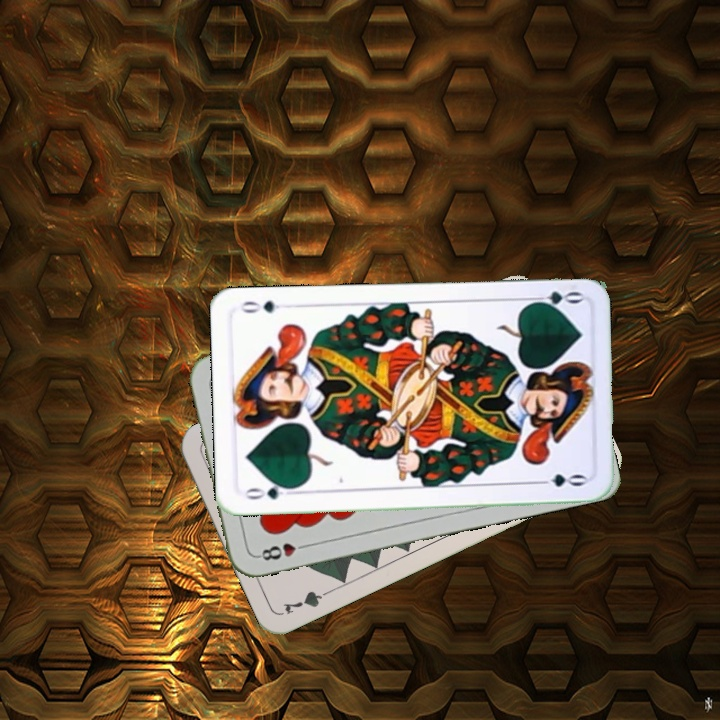G7: (278, 584, 336, 617)
GO: (524, 287, 584, 312), (240, 479, 299, 502)
H8: (253, 538, 312, 563)
